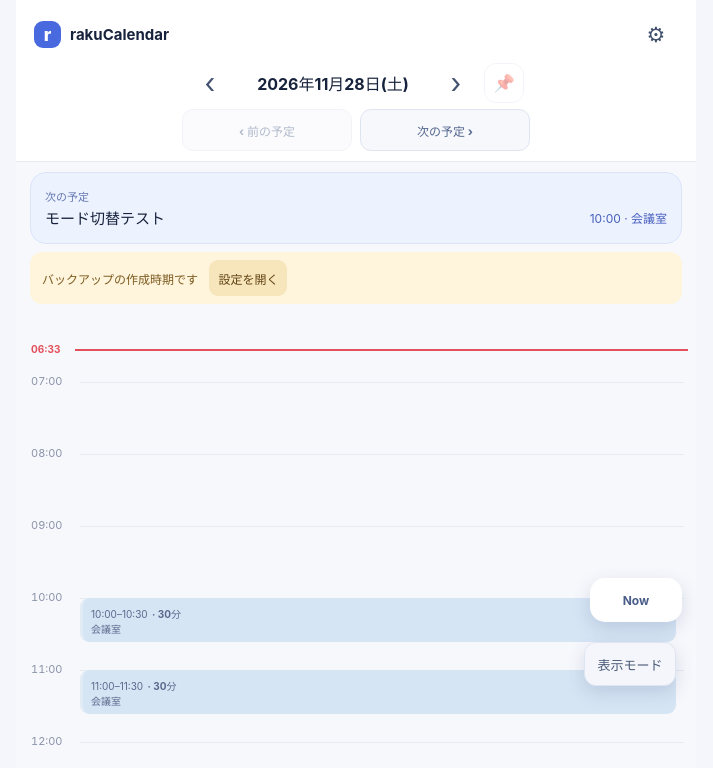
Scenario: calendar viewing and editing modes › extends and shortens a selected event by exactly 15 minutes
Later steps or results of the test are not shown.
(page scrolled)
What coordinates should you click on to do the following:
click the button with class "mode-toggle"
I would click on:
 (630, 664)
Its box is 584,642 -> 676,686.
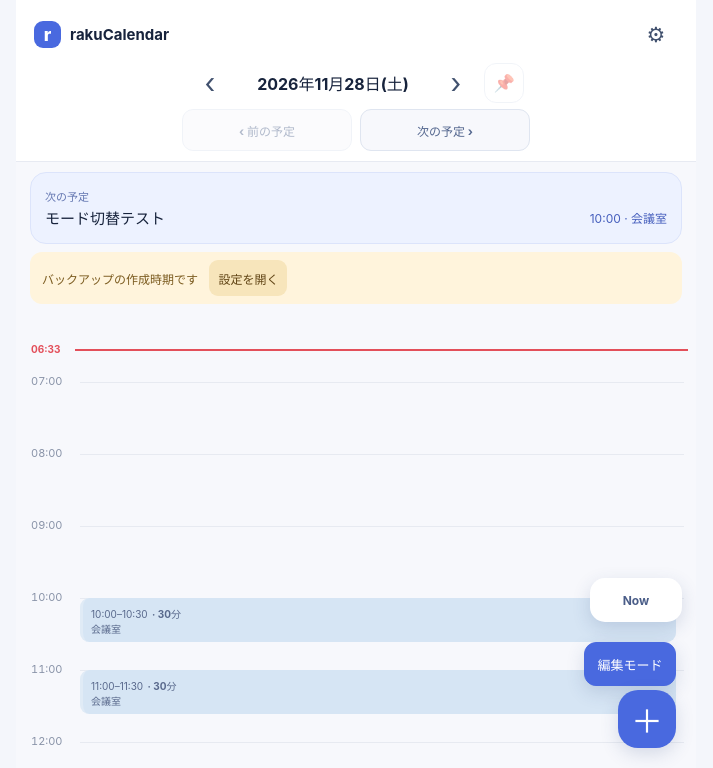
What coordinates should you click on to do the following:
click the button with class "event-card" showing "10:00–10:30 · 30分 会議室"
I would click on:
 (139, 612)
Its box is 80,598 -> 676,642.
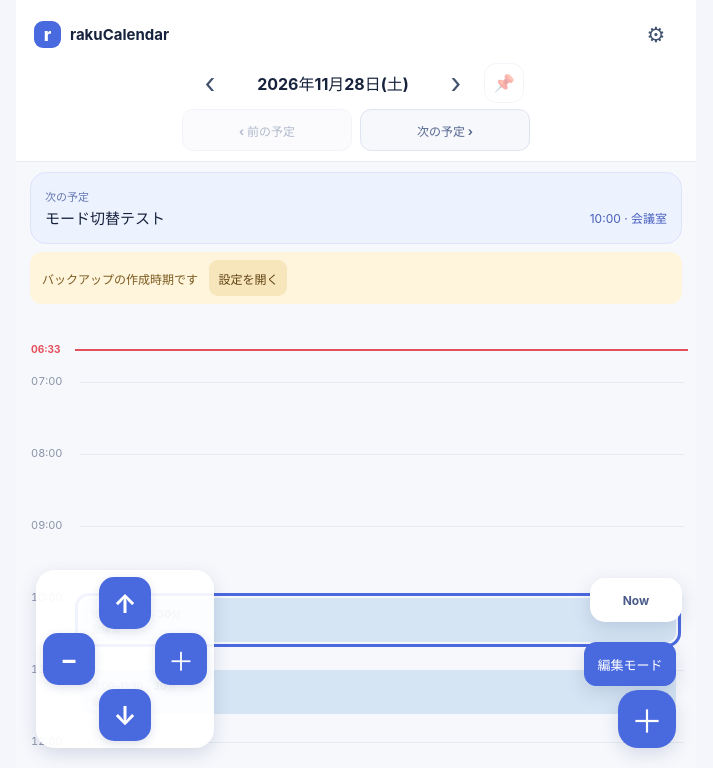
What coordinates should you click on to do the following:
click the button named "15分延長"
I would click on:
 (181, 659)
Its box is 155,633 -> 207,685.
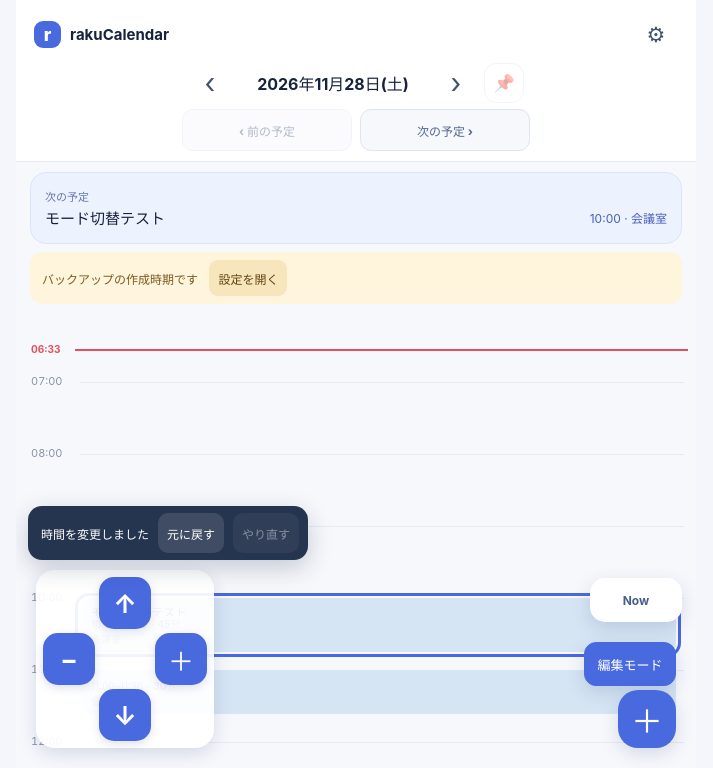
Expected: the message "時間を変更しました 元に戻す やり直す" is shown, 28,506 -> 308,560
